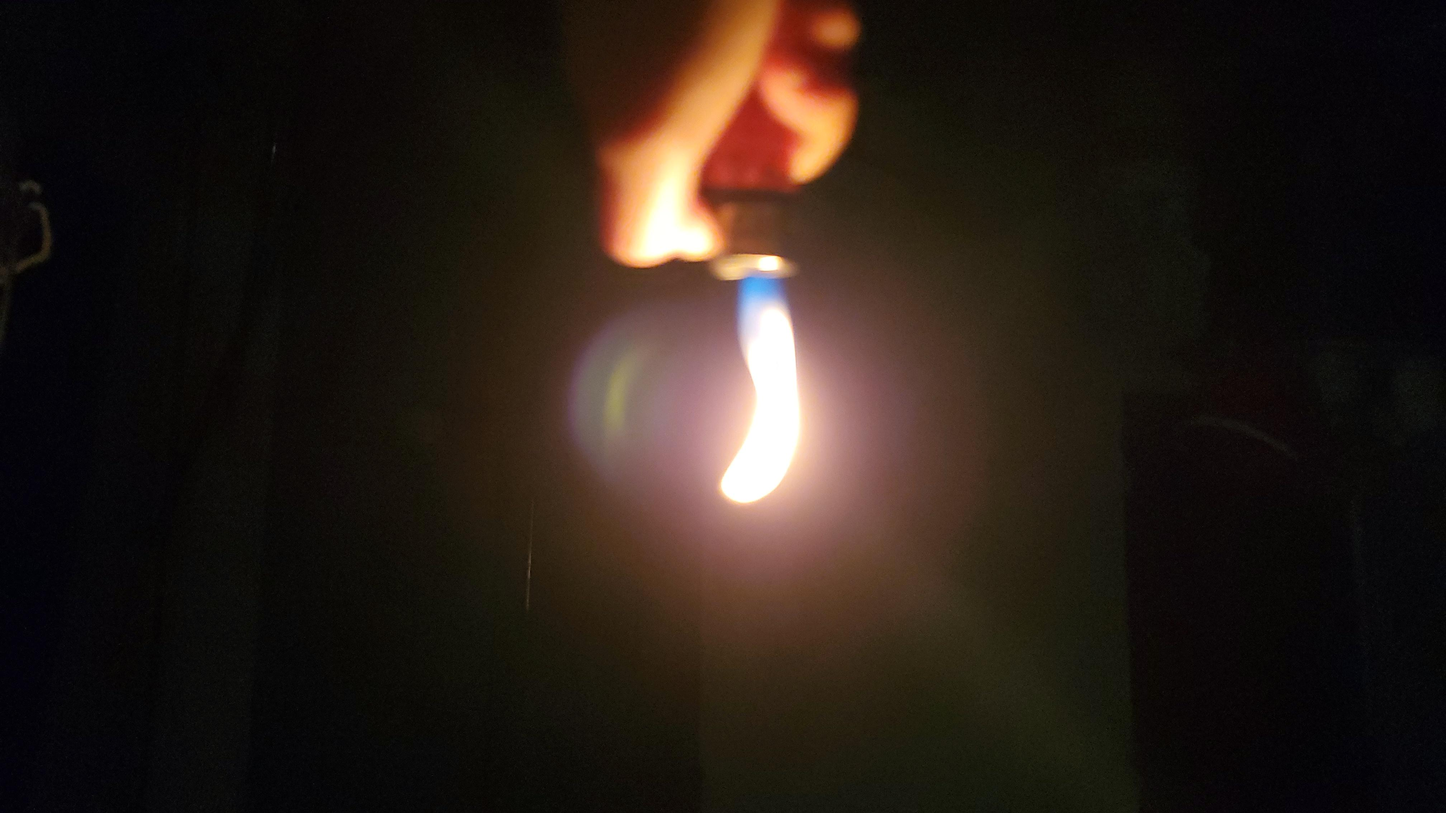fire: (639, 303, 723, 535)
